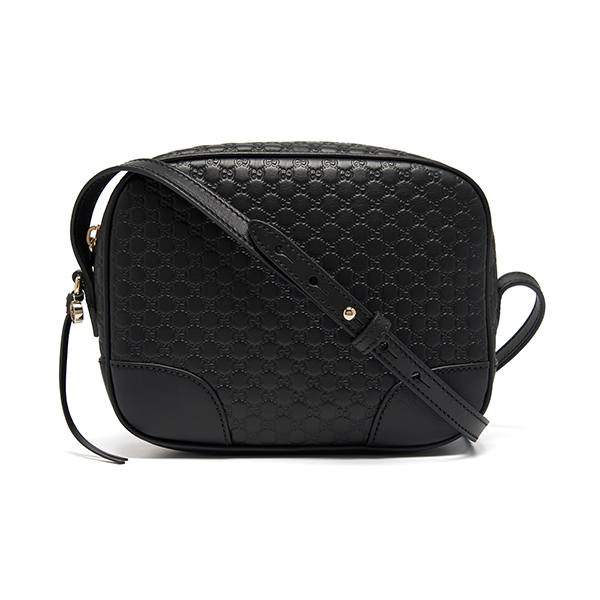Gucci: (69, 145, 548, 461)
